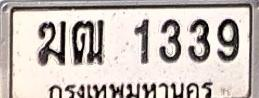1: (134, 18, 149, 64)
3: (158, 18, 181, 63), (187, 18, 210, 62)
9: (217, 18, 239, 62)
A06: (36, 20, 66, 66)
A18: (71, 19, 105, 65)
BKK: (45, 78, 215, 98)
